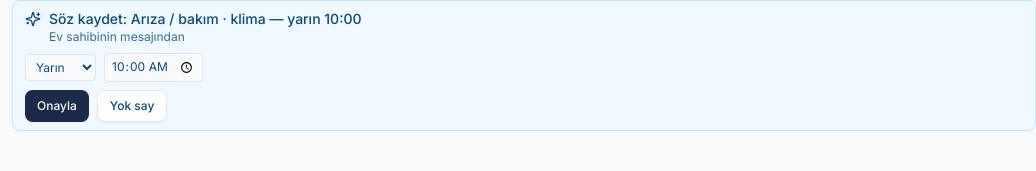
Scenario: eylem önerisi — mevcut söze bağlandı bilgisi › başka bir alan hatasında (400, alan 'kind') liste YENİLENMEZ — yalnız hata görünür (aşırı uygulama kontrolü)
The image size is (1036, 171).
Click the button "Onayla". click: click(57, 106)
box: [25,90,89,122]
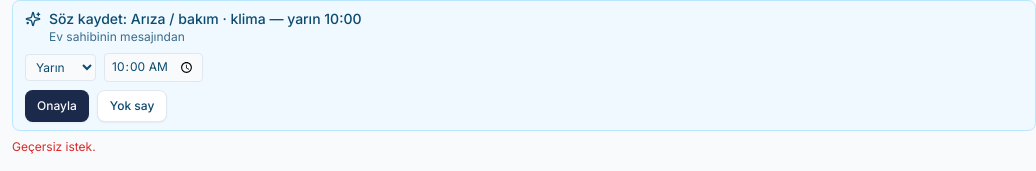
Check: the message reads "Geçersiz istek.", box [12,139,96,154]
